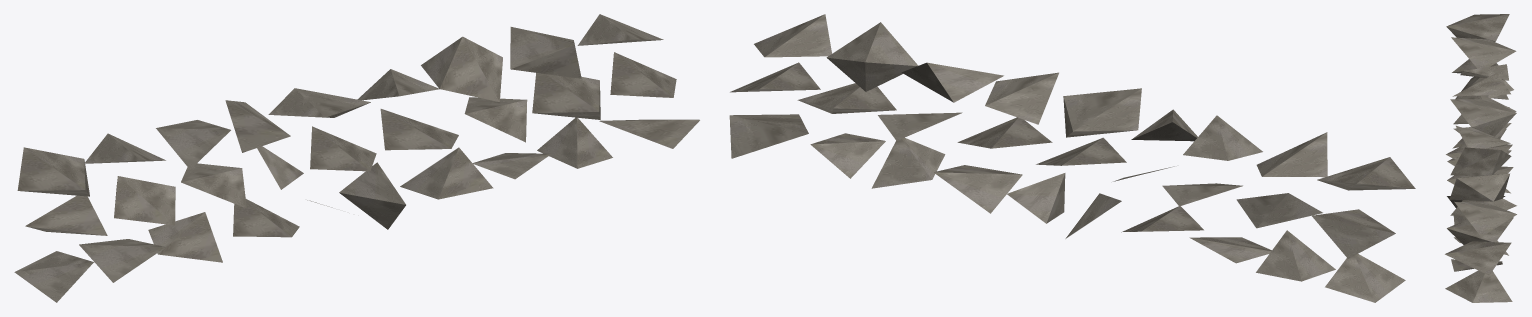
File: stone_fence_4m_lod2.glb
3 renders of one model, left to right at view 1: azimuth 30°, elevation 25°; view 2: azimuth 150°, elevation 25°; view 3: azimuth 270°, elevation 25°, orthographic. The views are drawn at different scales.
Parts seen in each view (by area): view 1: m; view 2: m; view 3: m.
Boxes of the visible parts, x1,y1,x2,y2 form: m: (14, 14, 699, 302); m: (729, 14, 1415, 302); m: (1445, 14, 1516, 302).
Bounding box in the file's own units: 4.36 × 0.8864 × 0.5988.
Materials: 1 (1 with a texture image).
